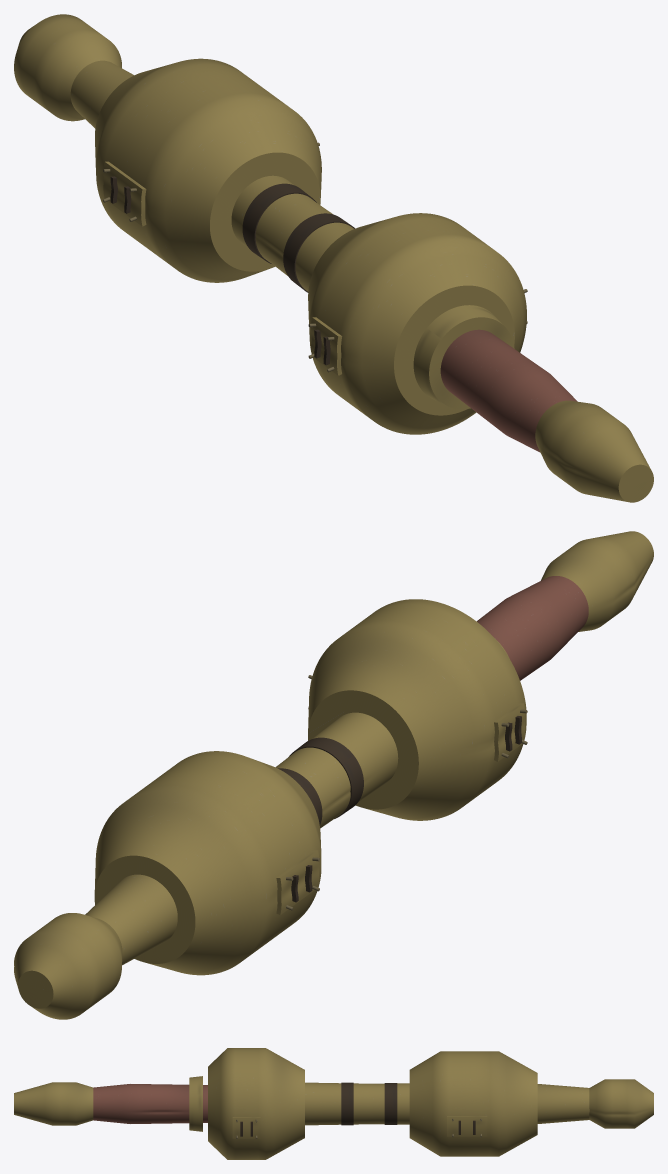
3 views of the same model, one above another, from view 1: azimuth 30°, elevation 25°; view 2: azimuth 150°, elevation 25°; view 3: azimuth 270°, elevation 25° (orthographic). The views are drawn at different scales.
Parts seen in each view (by area): view 1: Braccatian Mega Blast rear expansion, Braccatian Mega Blast forward expansion, Braccatian Mega Blast copper neck, Braccatian Mega Blast forward gold end, Braccatian Mega Blast axial waist, Braccatian Mega Blast rear gold end, Braccatian Mega Blast neck collar, Braccatian Mega Blast service cover 3, Braccatian Mega Blast dark waist band 1, Braccatian Mega Blast dark waist band 0, Braccatian Mega Blast service cover 1; view 2: Braccatian Mega Blast rear expansion, Braccatian Mega Blast forward expansion, Braccatian Mega Blast axial waist, Braccatian Mega Blast rear gold end, Braccatian Mega Blast copper neck, Braccatian Mega Blast forward gold end, Braccatian Mega Blast dark waist band 0, Braccatian Mega Blast service cover 3, Braccatian Mega Blast service cover 1; view 3: Braccatian Mega Blast rear expansion, Braccatian Mega Blast forward expansion, Braccatian Mega Blast axial waist, Braccatian Mega Blast copper neck, Braccatian Mega Blast forward gold end, Braccatian Mega Blast rear gold end, Braccatian Mega Blast service cover 2, Braccatian Mega Blast neck collar, Braccatian Mega Blast dark waist band 1, Braccatian Mega Blast dark waist band 0, Braccatian Mega Blast service cover 0.
Part boxes in pixels (bbox=[...]): Braccatian Mega Blast rear expansion: bbox=[95, 58, 321, 282]; Braccatian Mega Blast forward expansion: bbox=[308, 213, 526, 434]; Braccatian Mega Blast copper neck: bbox=[440, 329, 577, 452]; Braccatian Mega Blast forward gold end: bbox=[535, 400, 653, 502]; Braccatian Mega Blast axial waist: bbox=[70, 60, 353, 291]; Braccatian Mega Blast rear gold end: bbox=[14, 14, 121, 121]; Braccatian Mega Blast neck collar: bbox=[413, 305, 514, 409]; Braccatian Mega Blast service cover 3: bbox=[103, 161, 146, 226]; Braccatian Mega Blast dark waist band 1: bbox=[242, 183, 316, 263]; Braccatian Mega Blast dark waist band 0: bbox=[283, 213, 354, 292]; Braccatian Mega Blast service cover 1: bbox=[311, 317, 342, 375]; Braccatian Mega Blast rear expansion: bbox=[94, 751, 321, 975]; Braccatian Mega Blast forward expansion: bbox=[308, 599, 526, 820]; Braccatian Mega Blast axial waist: bbox=[85, 712, 398, 965]; Braccatian Mega Blast rear gold end: bbox=[14, 913, 122, 1019]; Braccatian Mega Blast copper neck: bbox=[477, 576, 588, 680]; Braccatian Mega Blast forward gold end: bbox=[541, 531, 653, 631]; Braccatian Mega Blast dark waist band 0: bbox=[289, 737, 363, 818]; Braccatian Mega Blast service cover 3: bbox=[276, 850, 319, 915]; Braccatian Mega Blast service cover 1: bbox=[494, 703, 525, 761]; Braccatian Mega Blast rear expansion: bbox=[409, 1051, 537, 1156]; Braccatian Mega Blast forward expansion: bbox=[208, 1048, 304, 1159]; Braccatian Mega Blast axial waist: bbox=[305, 1082, 589, 1125]; Braccatian Mega Blast copper neck: bbox=[93, 1084, 207, 1123]; Braccatian Mega Blast forward gold end: bbox=[14, 1082, 93, 1125]; Braccatian Mega Blast rear gold end: bbox=[589, 1079, 653, 1128]; Braccatian Mega Blast service cover 2: bbox=[447, 1116, 487, 1136]; Braccatian Mega Blast neck collar: bbox=[189, 1076, 202, 1131]; Braccatian Mega Blast dark waist band 1: bbox=[384, 1083, 397, 1124]; Braccatian Mega Blast dark waist band 0: bbox=[341, 1082, 353, 1125]; Braccatian Mega Blast service cover 0: bbox=[232, 1117, 260, 1138].
Size of the model in its own units: 0.3961 by 0.36 by 2.06.
4 materials, 3 textured.
